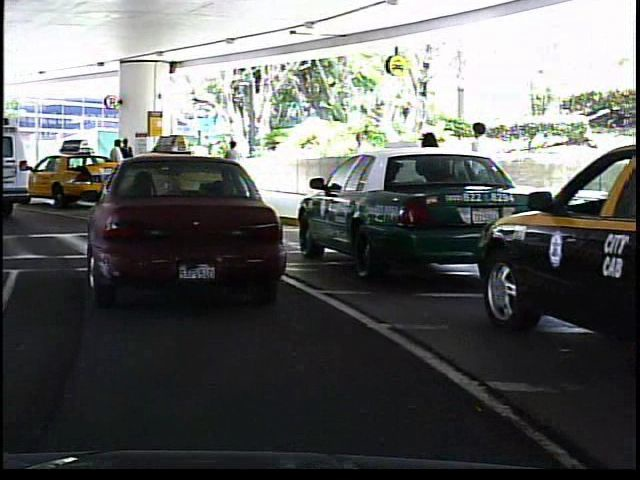person: (459, 114, 507, 230), (410, 122, 451, 228), (343, 123, 374, 204), (220, 137, 244, 191), (105, 137, 124, 192), (119, 134, 136, 191)
